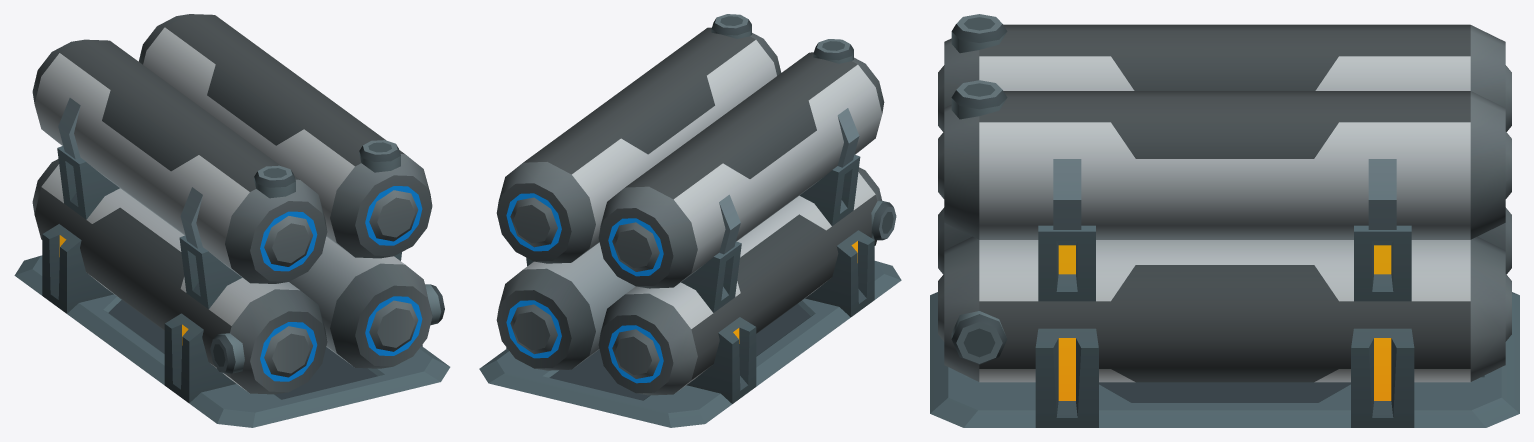
File: Baloon_003.glb
The picture shows the model from 3 angles, left to right: view 1: azimuth 30°, elevation 25°; view 2: azimuth 150°, elevation 25°; view 3: azimuth 270°, elevation 25°; orthographic projection. The views are drawn at different scales.
Visible parts, largest first — view 1: Baloon_003; view 2: Baloon_003; view 3: Baloon_003.
Boxes of the visible parts, x1=… form: Baloon_003: x1=14, y1=14, x2=450, y2=427; Baloon_003: x1=479, y1=14, x2=901, y2=427; Baloon_003: x1=930, y1=14, x2=1519, y2=427.
Size of the model in its own units: 0.9292 by 0.8778 by 1.58.
2 materials, 2 textured.
